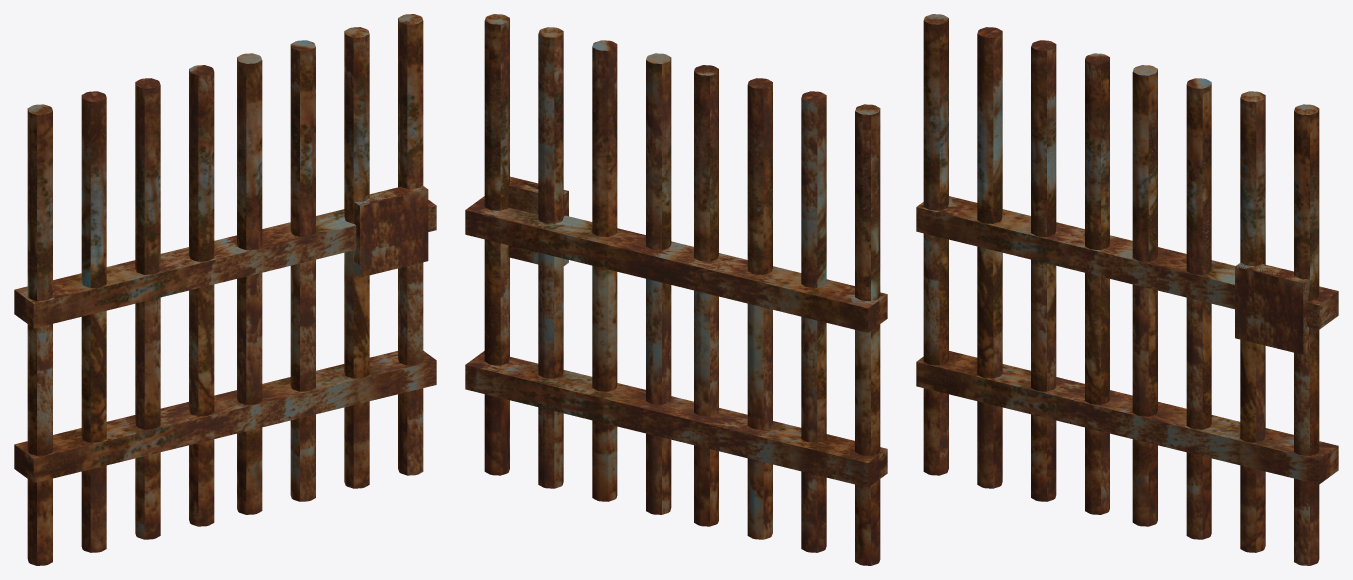
Rendered from MetalDoor.fbx.
The picture shows the model from 3 angles, left to right: view 1: azimuth 30°, elevation 25°; view 2: azimuth 150°, elevation 25°; view 3: azimuth 330°, elevation 25°; orthographic projection.
Visible parts, largest first — view 1: Cube.001; view 2: Cube.001; view 3: Cube.001.
Boxes of the visible parts, left/top/right/bottom form: Cube.001: left=14, top=14, right=436, bottom=565; Cube.001: left=465, top=14, right=887, bottom=565; Cube.001: left=916, top=14, right=1338, bottom=565.
Size of the model in its own units: 453 by 45.32 by 484.
